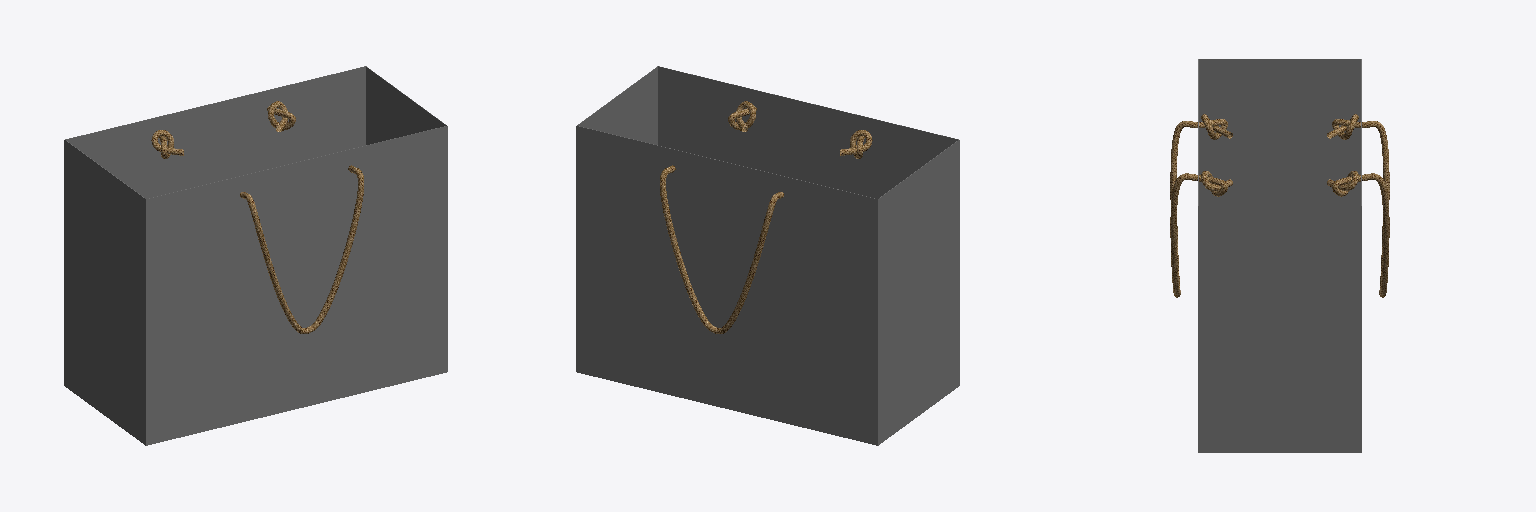
3 views of the same model, side by side, from view 1: azimuth 30°, elevation 25°; view 2: azimuth 150°, elevation 25°; view 3: azimuth 270°, elevation 25° (orthographic).
Visible parts, largest first — view 1: bag_body3, string1, string2; view 2: bag_body3, string2, string1; view 3: bag_body3, string1, string2.
Boxes of the visible parts, x1,y1,x2,y2 form: bag_body3: [64, 66, 447, 445]; string1: [240, 165, 363, 333]; string2: [151, 101, 295, 158]; bag_body3: [576, 66, 959, 445]; string2: [660, 165, 783, 333]; string1: [728, 101, 872, 158]; bag_body3: [1198, 59, 1361, 452]; string1: [1170, 114, 1232, 297]; string2: [1327, 114, 1389, 297].
Size of the model in its own units: 32 by 25 by 20.15.
Materials: 2 (1 with a texture image).